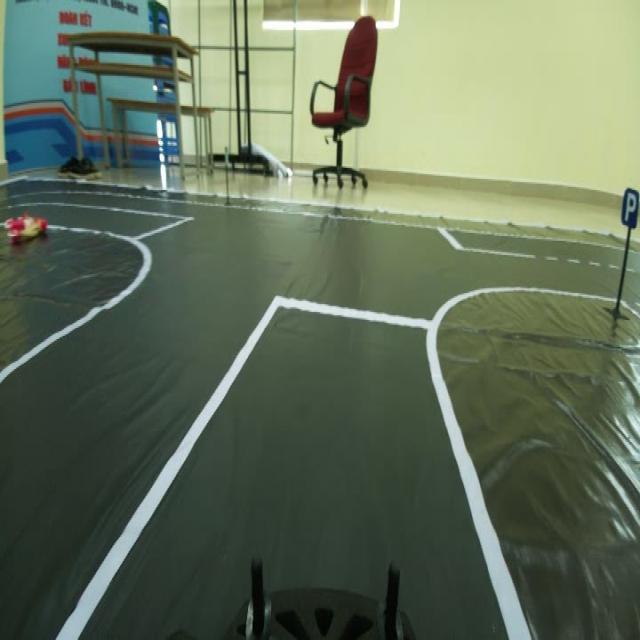parking: (618, 180, 640, 230)
